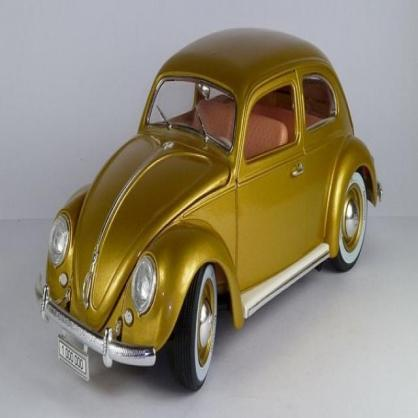car: (47, 25, 379, 396)
